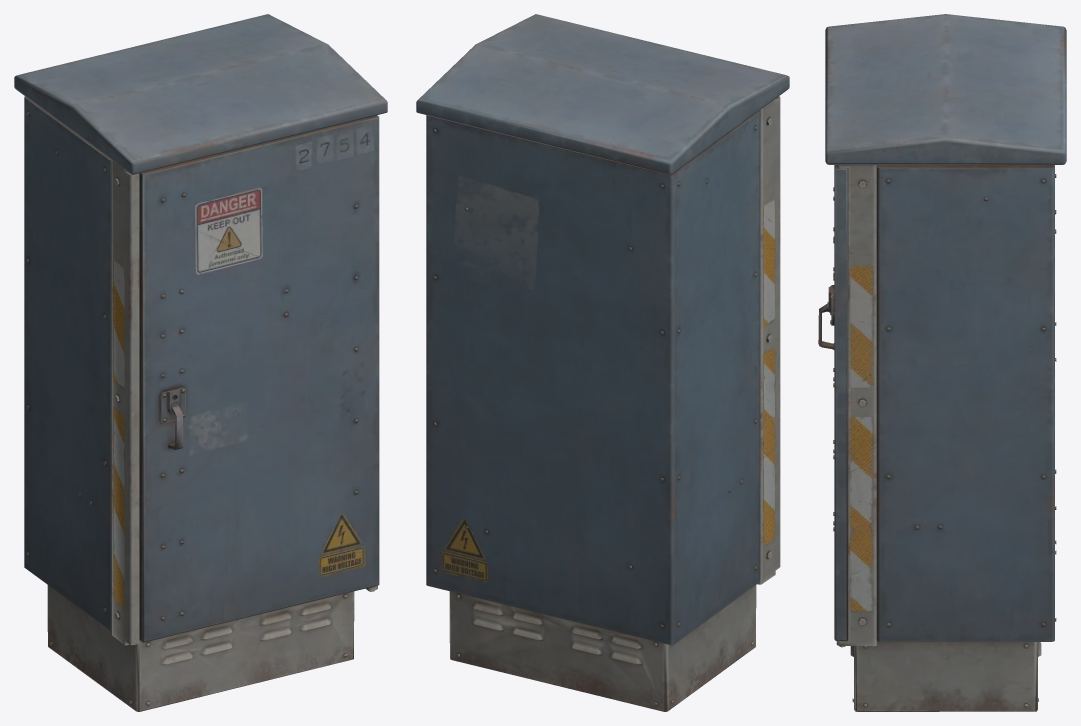
The model's file is utility_box_01.glb.
The picture shows the model from 3 angles, left to right: view 1: azimuth 30°, elevation 25°; view 2: azimuth 150°, elevation 25°; view 3: azimuth 270°, elevation 25°; orthographic projection.
Parts seen in each view (by area): view 1: utility_box_01_box; view 2: utility_box_01_box; view 3: utility_box_01_box.
Part boxes in pixels (left/top/right/bottom): utility_box_01_box: left=14, top=14, right=387, bottom=711; utility_box_01_box: left=416, top=14, right=789, bottom=711; utility_box_01_box: left=818, top=14, right=1066, bottom=711.
Bounding box in the file's own units: 0.52 × 1.12 × 0.4319.
1 material, 1 textured.
